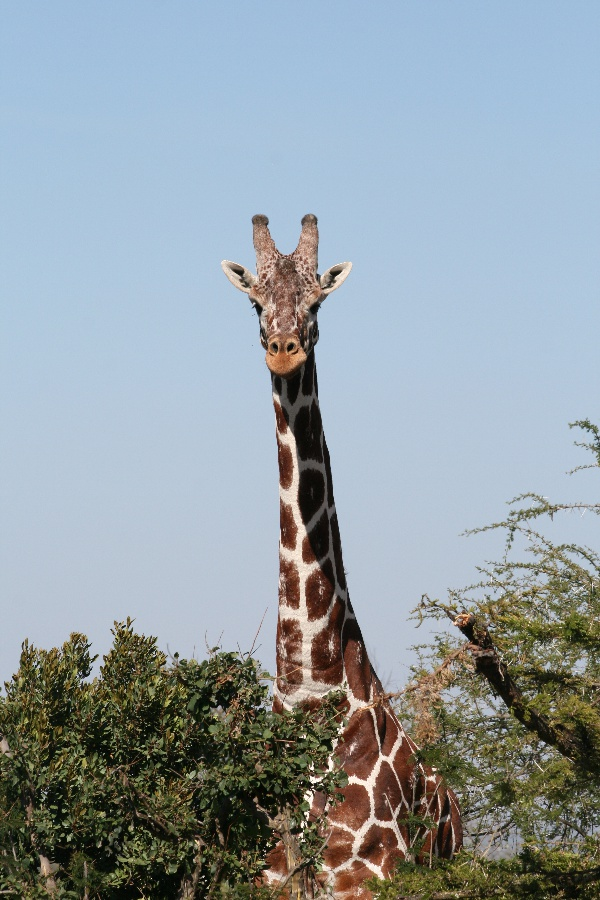giraffe: (206, 204, 477, 898)
